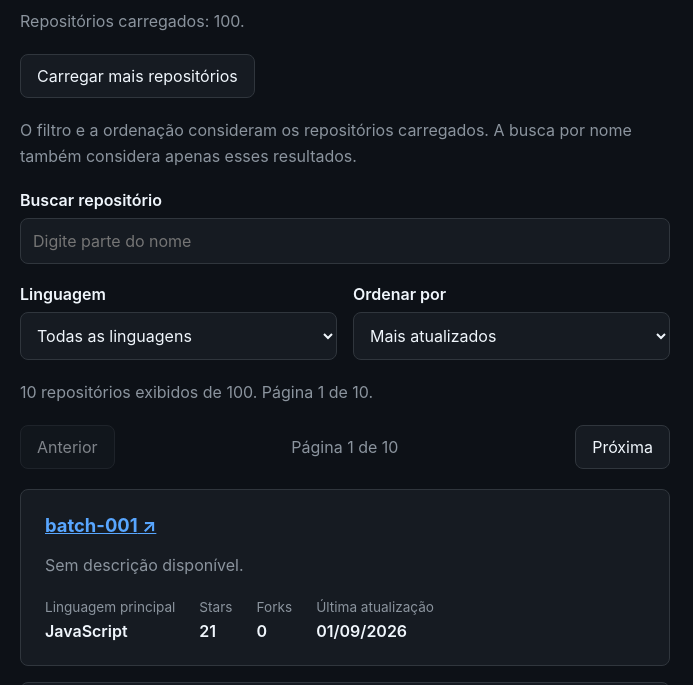
acrescenta outro lote, remove duplicatas e preserva filtro, ordem e página
The width and height of the screenshot is (693, 685).
(page scrolled)
Select "JavaScript" in the dropdown labelled "Linguagem" at (178, 336), box [20,312,337,360]
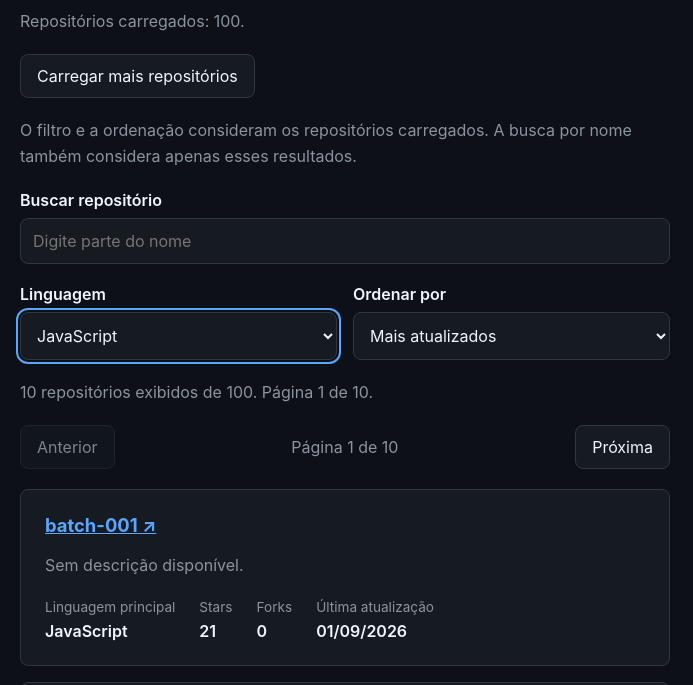
Select "Nome A–Z" in the dropdown labelled "Ordenar por" at (512, 336), box [353,312,670,360]
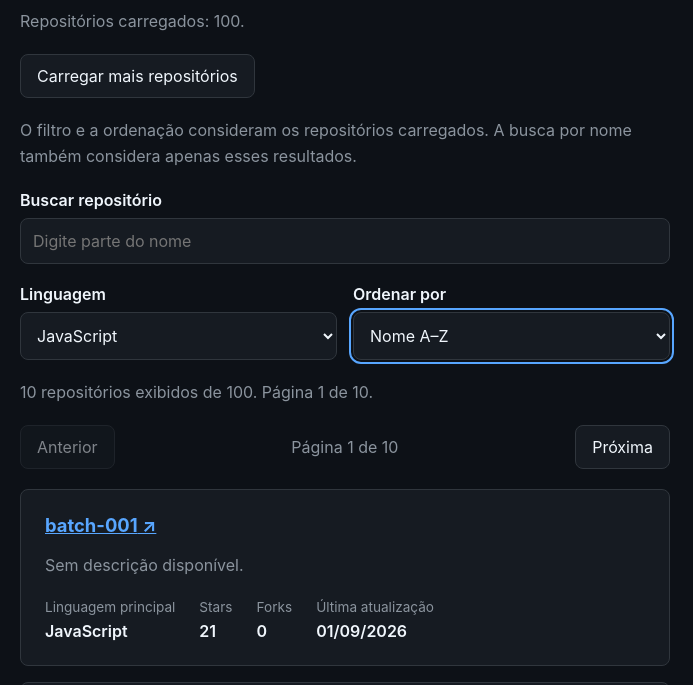
Click the button "Próxima" at (623, 447), box [575,425,670,469]
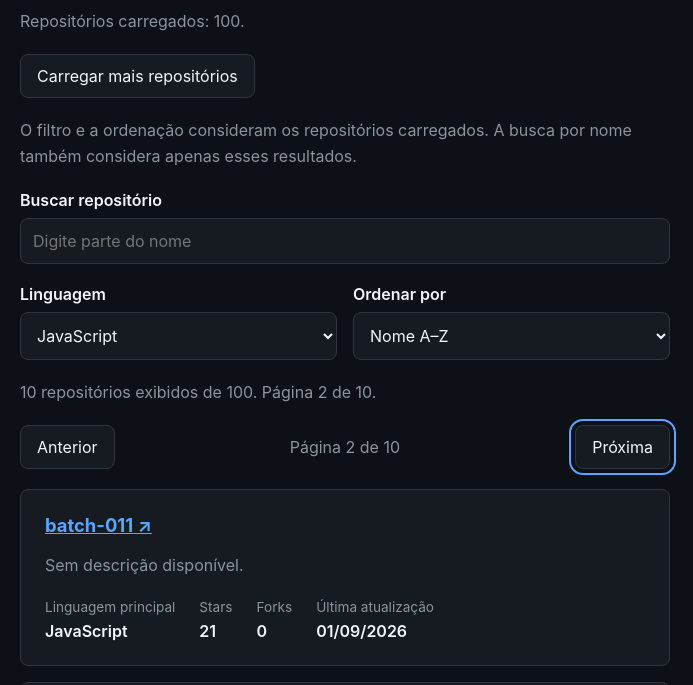
Click the button "Carregar mais repositórios" at (137, 76), box [20,54,255,98]
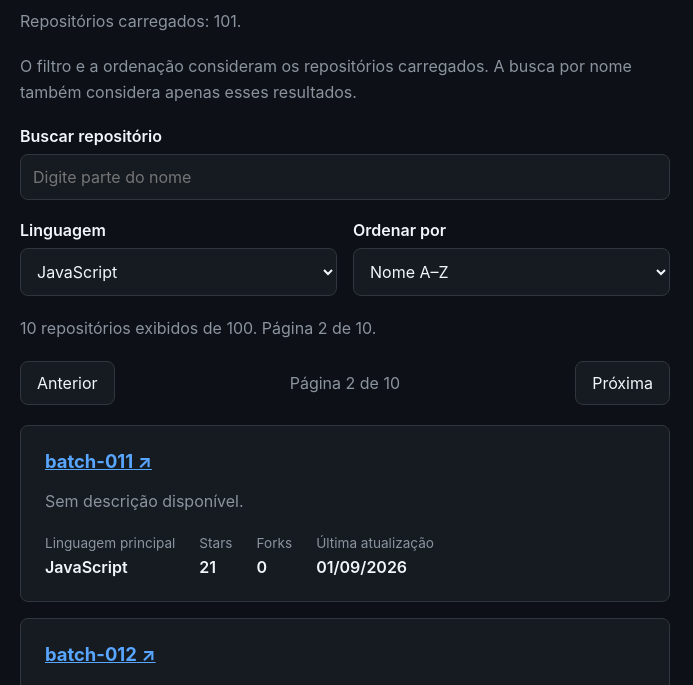
Expected: the navigation bar named "Paginação dos repositórios" shows "Página 2 de 10", [20,361,670,405]
Expected: the list item that starts with "batch-011" is shown, [45,450,152,472]
Expected: the text "Repositórios carregados: 101." is shown, [20,11,242,31]
Select "Rust" in the dropdown labelled "Linguagem" at (178, 272), box [20,248,337,296]
(page scrolled)
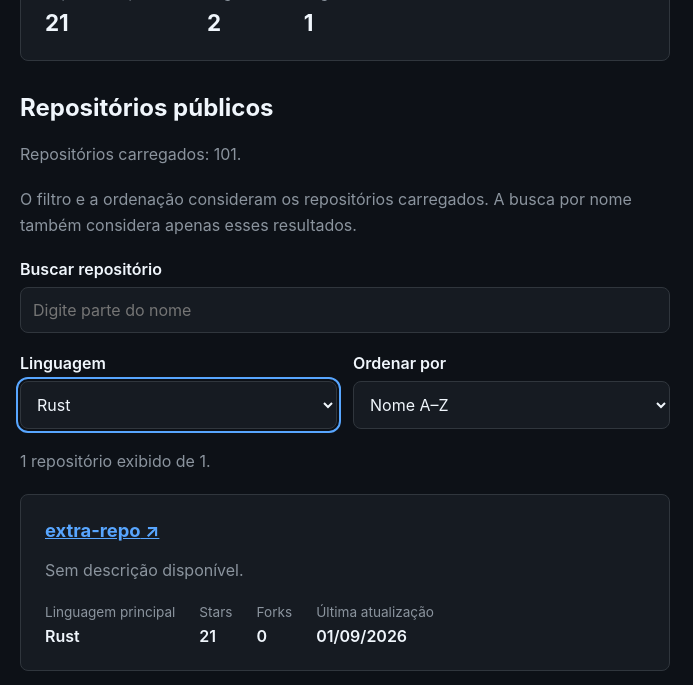
Expected: the number of list items is 1, [20,494,670,671]
Expected: the list item shows "extra-repo", [45,519,159,541]
